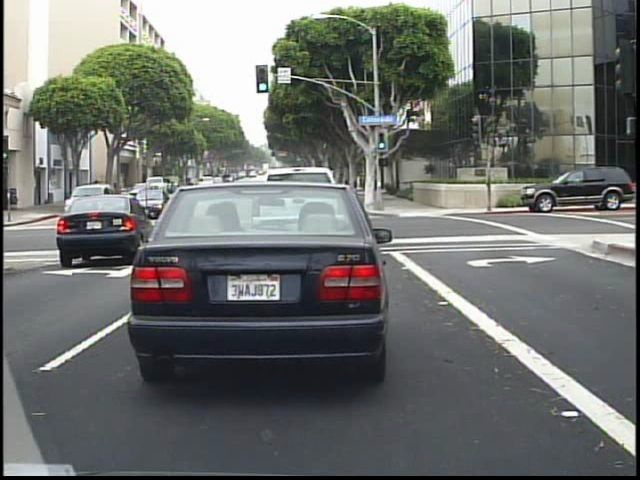person: (84, 178, 101, 213)
